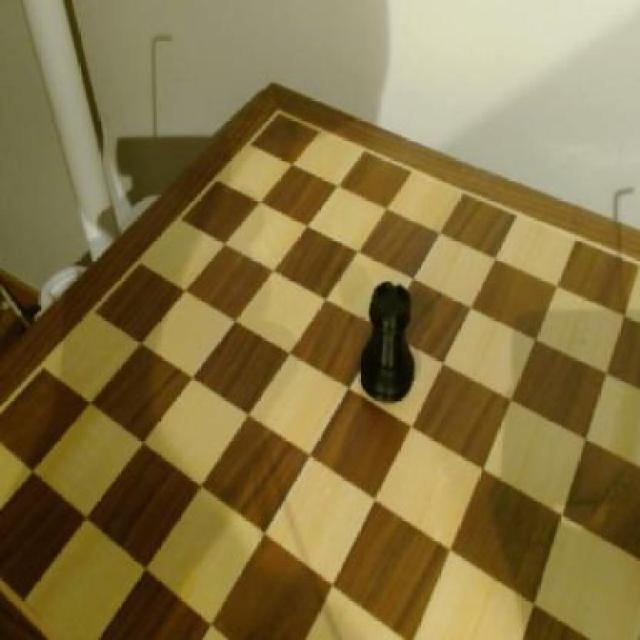black-queen: (360, 278, 420, 404)
